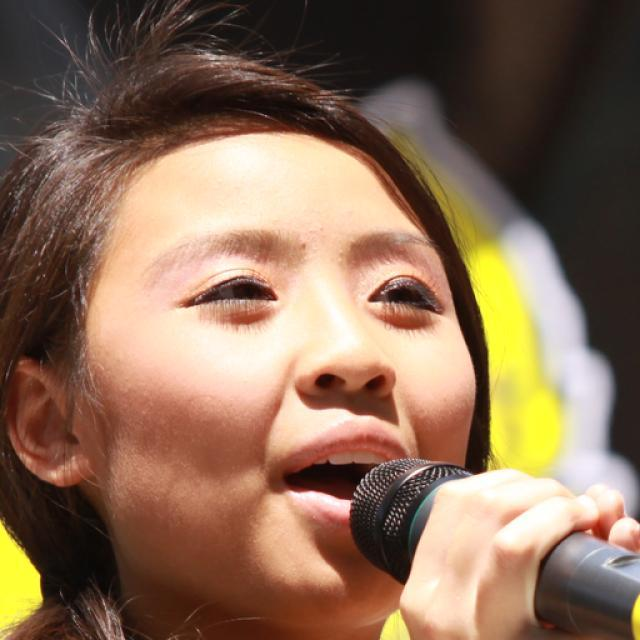surprise: (85, 126, 479, 622)
